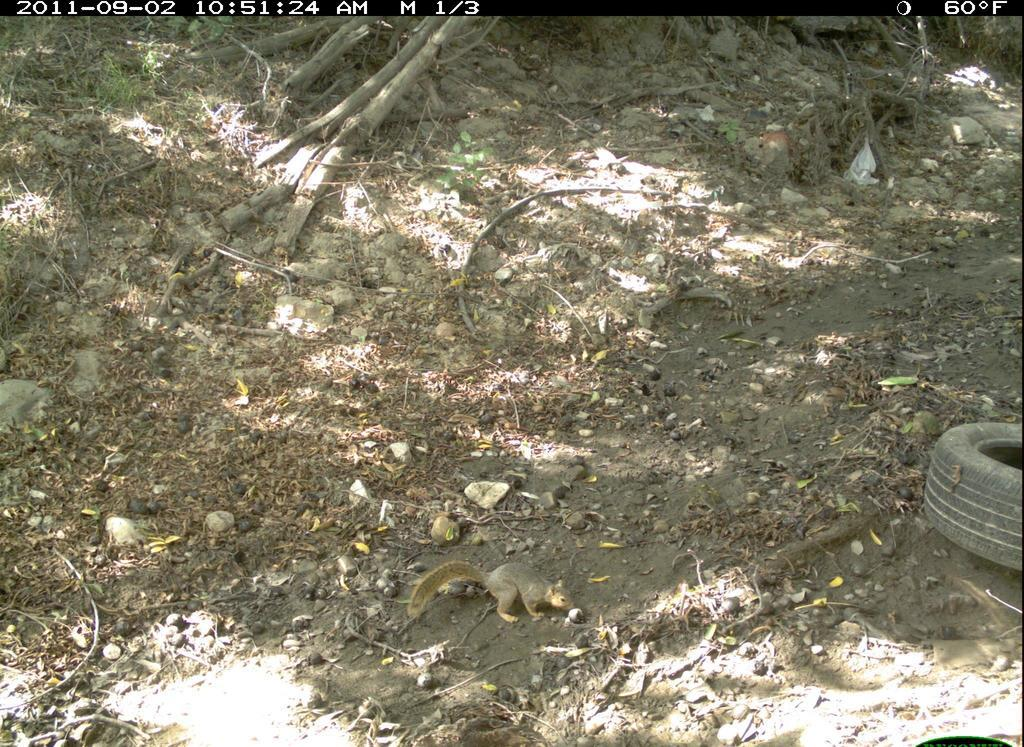squirrel: (402, 553, 584, 629)
